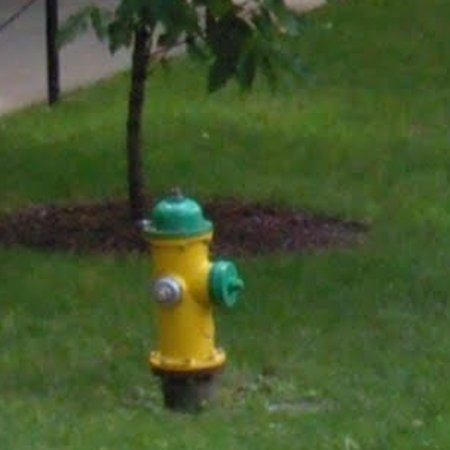a fire hydrant: (145, 191, 244, 410)
